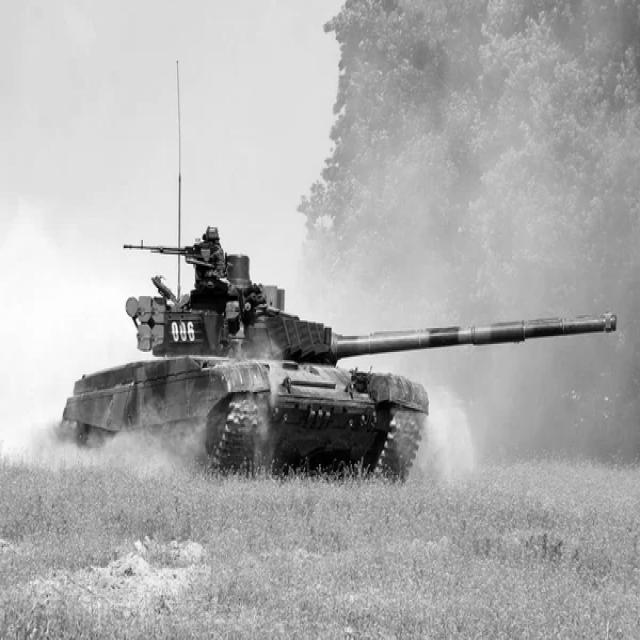Tank: (58, 212, 626, 486)
